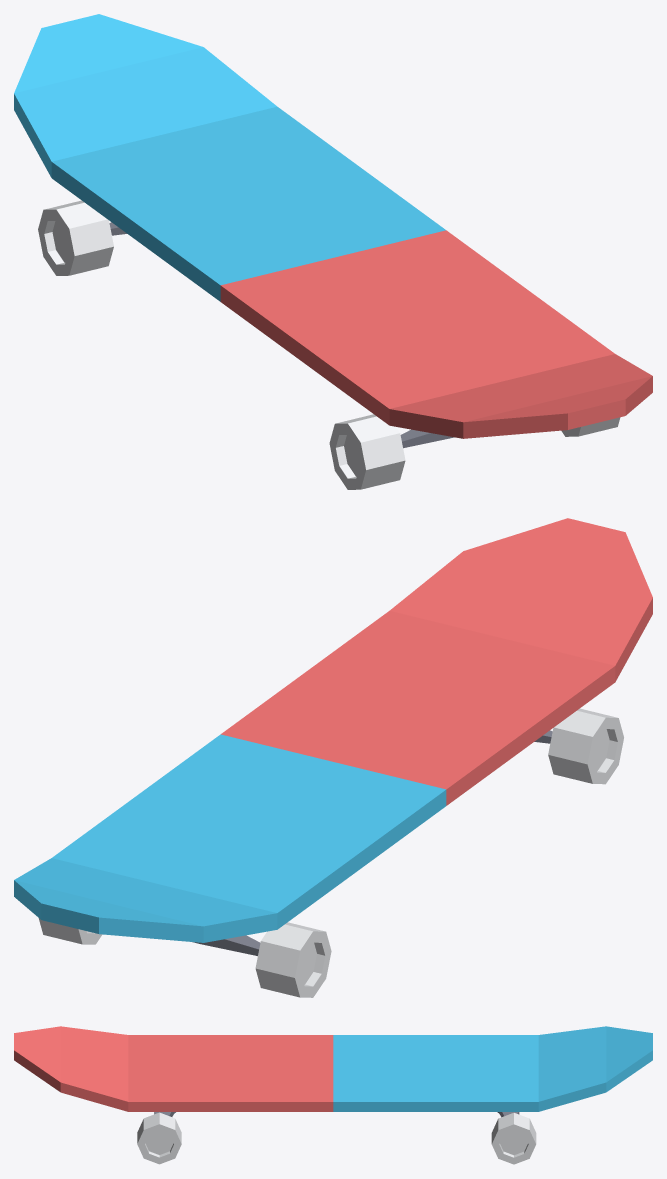
Rendered from Skateboard.fbx.
3 renders of one model, top to bottom at view 1: azimuth 30°, elevation 25°; view 2: azimuth 150°, elevation 25°; view 3: azimuth 270°, elevation 25°, orthographic. The views are drawn at different scales.
Visible parts, largest first — view 1: Plane.211; view 2: Plane.211; view 3: Plane.211.
Boxes of the visible parts, <box> form: Plane.211: <box>14,14,652,489</box>; Plane.211: <box>14,518,652,997</box>; Plane.211: <box>14,1026,652,1164</box>.
Size of the model in its own units: 0.5287 by 1.87 by 0.2743.
